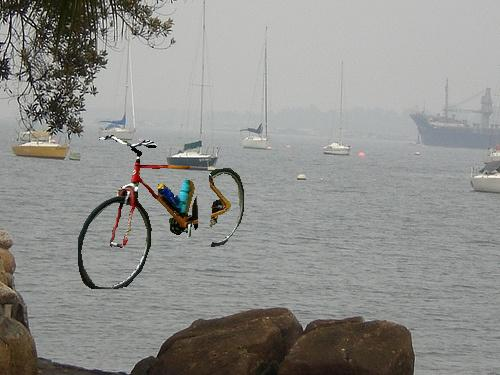tampered: (79, 136, 244, 289)
